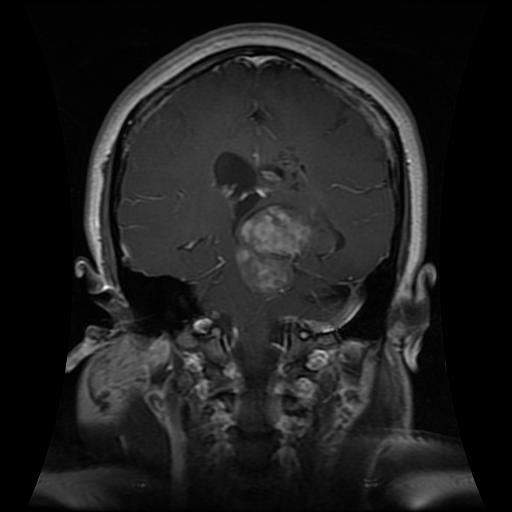Gliomia_tumour: (234, 202, 343, 301)
